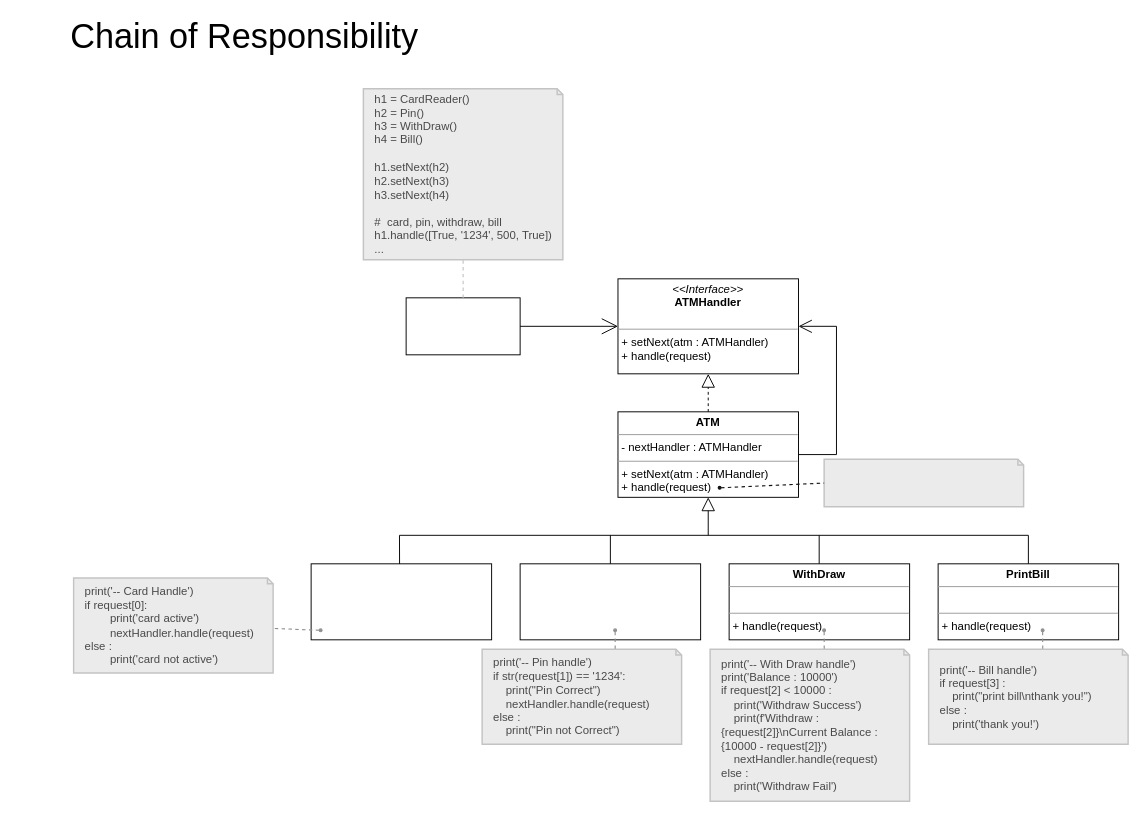
The diagram is 1145 pixels wide and 819 high, and some of its shapes have lost their labels. Each missing label, with the centre of its shape:
CardReader + handle(request ): the point at 401,601
Client: the point at 462,326
if nextHandler : nextHandler.handle(request): the point at 923,482
Pin + handle(request ): the point at 610,601
